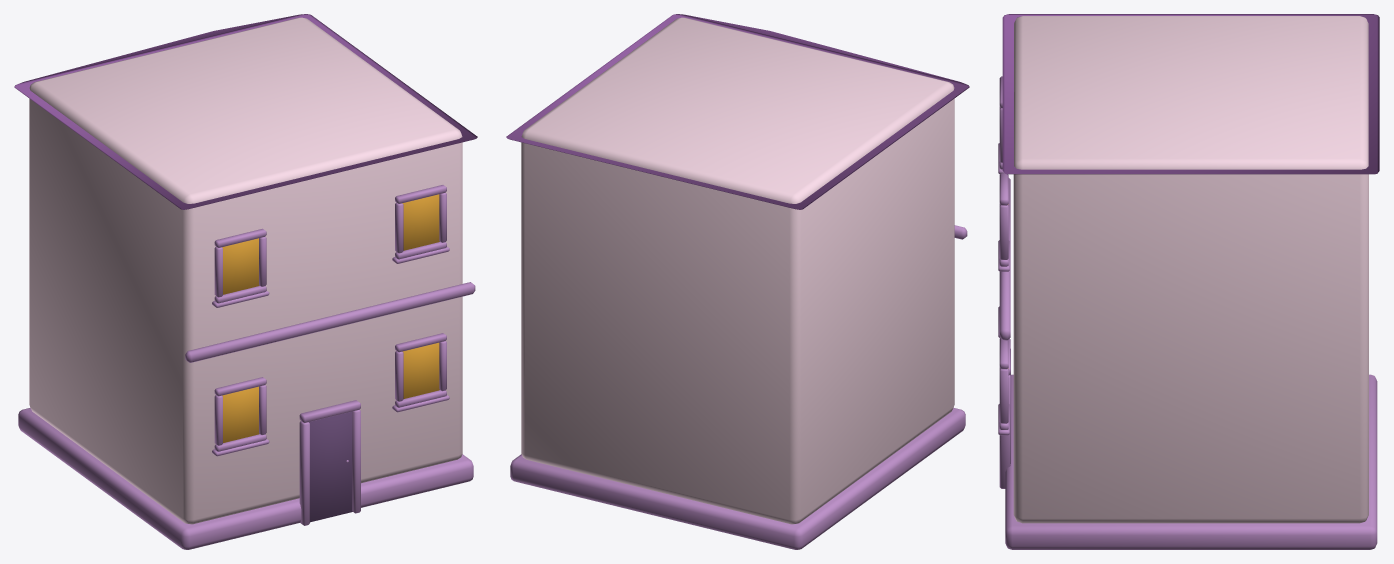
File: house-c.glb
3 renders of one model, left to right at view 1: azimuth 30°, elevation 25°; view 2: azimuth 150°, elevation 25°; view 3: azimuth 270°, elevation 25°, orthographic. The views are drawn at different scales.
Parts seen in each view (by area): view 1: house-c; view 2: house-c; view 3: house-c.
Part boxes in pixels (x1,y1,x2,y2): house-c: [14, 14, 477, 549]; house-c: [506, 14, 969, 549]; house-c: [998, 14, 1379, 549].
Bounding box in the file's own units: 6.92 × 8.98 × 6.97.
